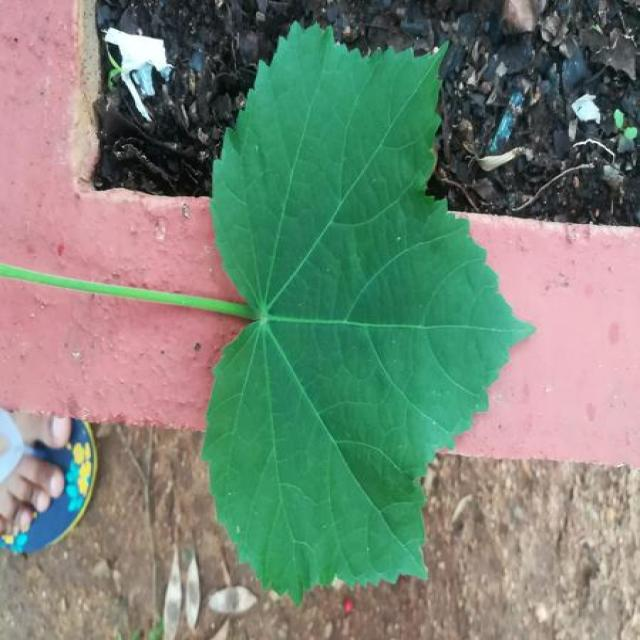kasamburga: (3, 25, 532, 601)
